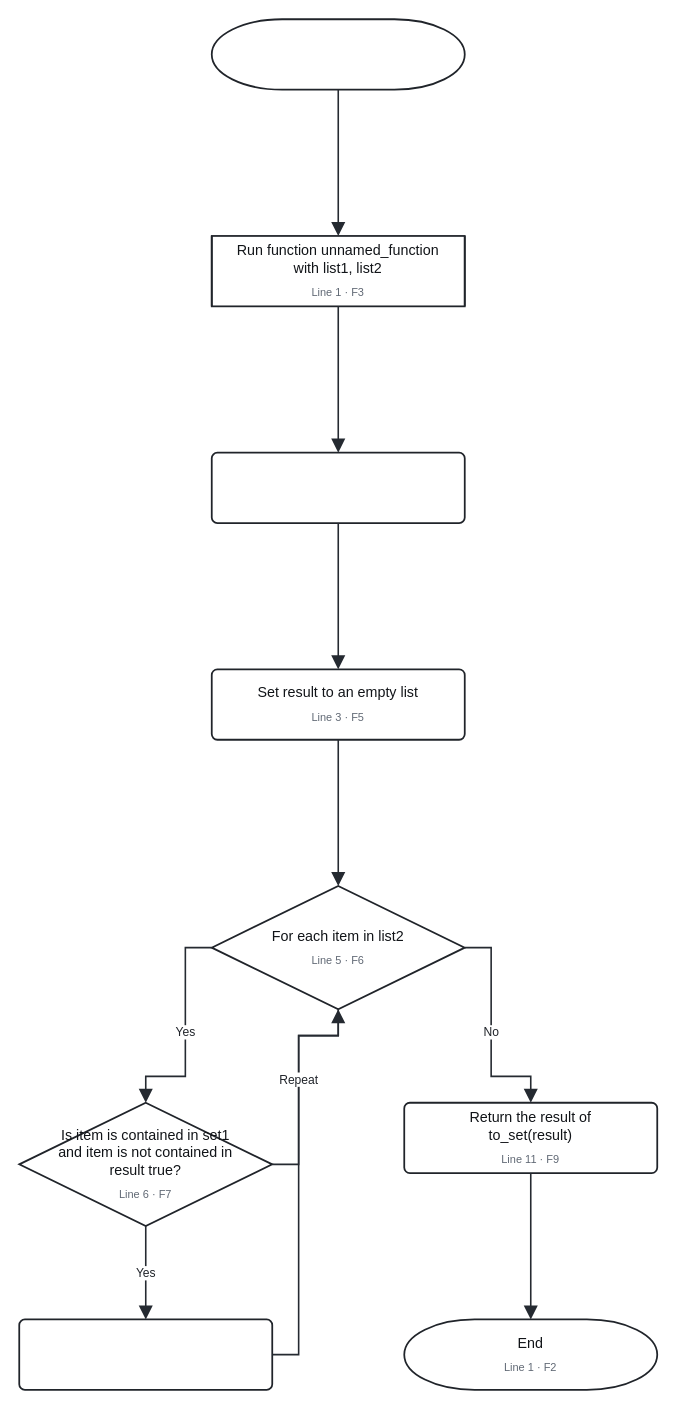
This 678x1410 diagram has some shape labels left out. Each missing label, with the centre of its shape:
Append item to result Line 7 · F8: the point at 145,1354
Set set1 to the result of to_set(list1) Line 2 · F4: the point at 337,487
Start Line 1 · F1: the point at 337,54
